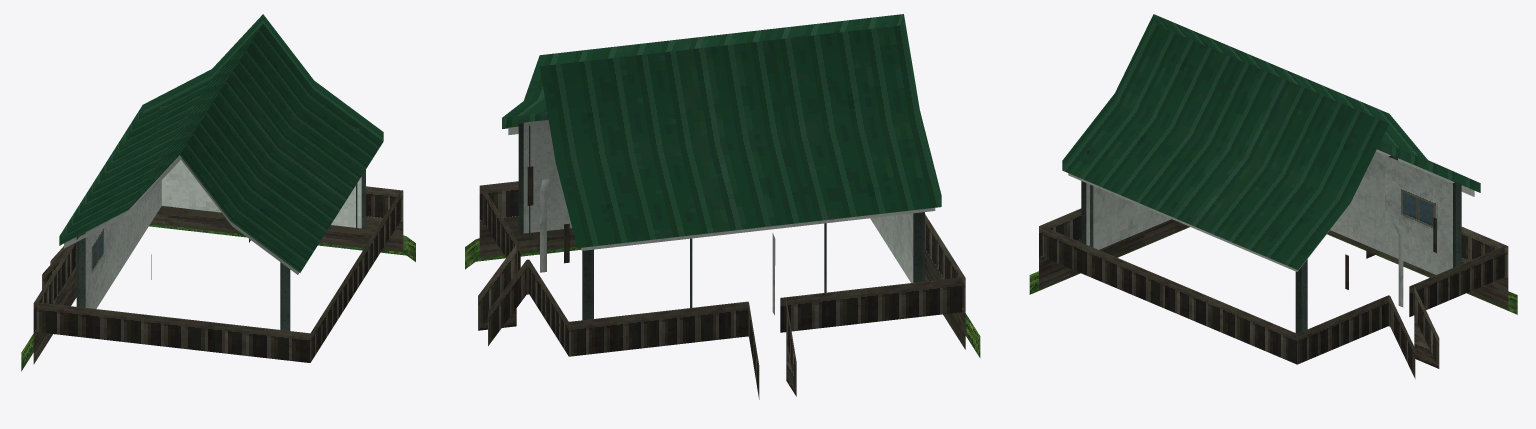
The model's file is ps2_save-icons_winningpost5maximum2003-story.glb.
3 views of the same model, side by side, from view 1: azimuth 30°, elevation 25°; view 2: azimuth 150°, elevation 25°; view 3: azimuth 270°, elevation 25° (orthographic). The views are drawn at different scales.
Visible parts, largest first — view 1: ic_game.icn; view 2: ic_game.icn; view 3: ic_game.icn.
Part boxes in pixels (left/top/right/bottom): ic_game.icn: left=21, top=14, right=415, bottom=371; ic_game.icn: left=465, top=14, right=980, bottom=399; ic_game.icn: left=1029, top=14, right=1517, bottom=378.
Size of the model in its own units: 4.95 by 2.68 by 4.95.
Materials: 1 (1 with a texture image).
